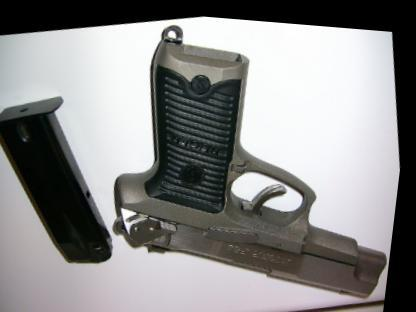pistol: (80, 6, 415, 312)
